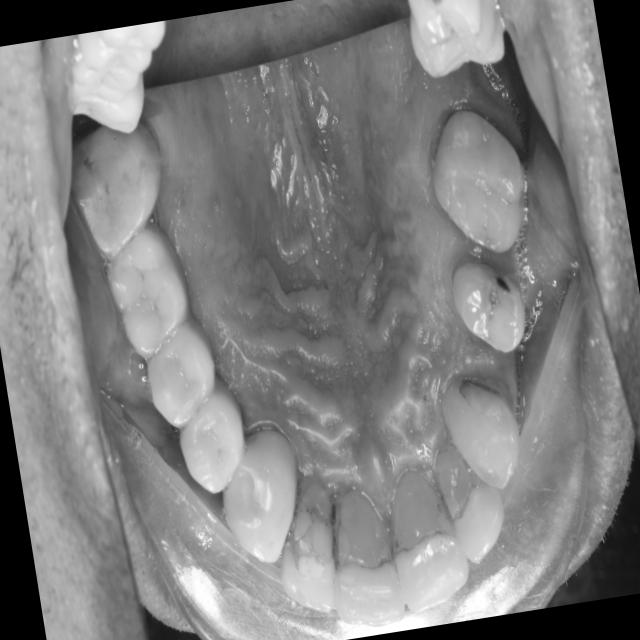tooth: (197, 400, 331, 591), (56, 110, 191, 274), (416, 99, 542, 271), (88, 208, 213, 377), (373, 457, 488, 626), (116, 296, 240, 446), (158, 367, 271, 524), (317, 470, 418, 640), (427, 350, 535, 508), (263, 458, 362, 630), (421, 432, 516, 575), (440, 246, 546, 365)
